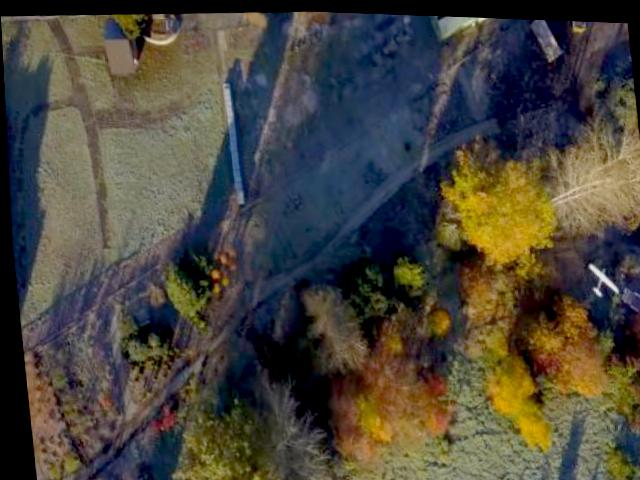uav: (579, 251, 625, 301)
